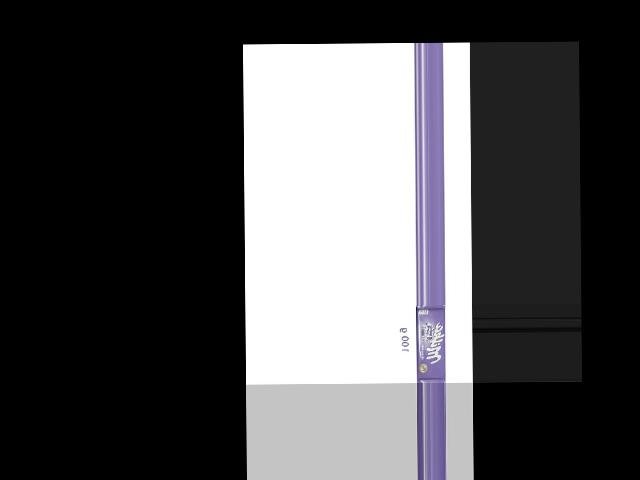chocolate: (410, 304, 446, 381)
